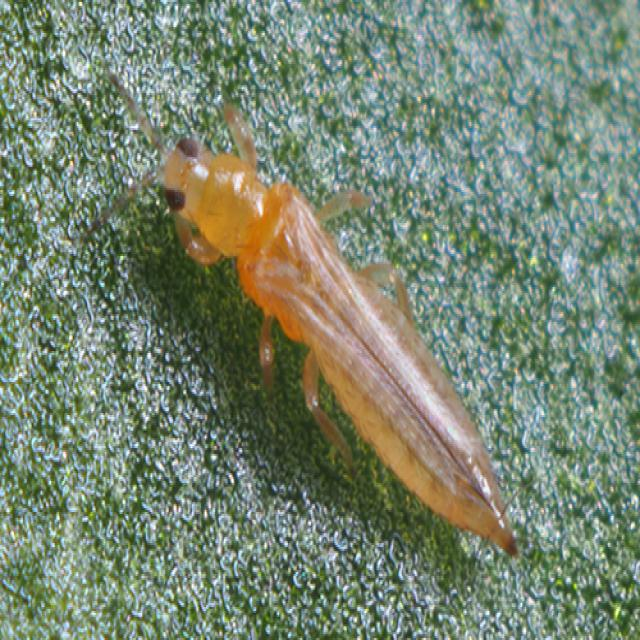Thrip-Adult-: (151, 86, 531, 575)
